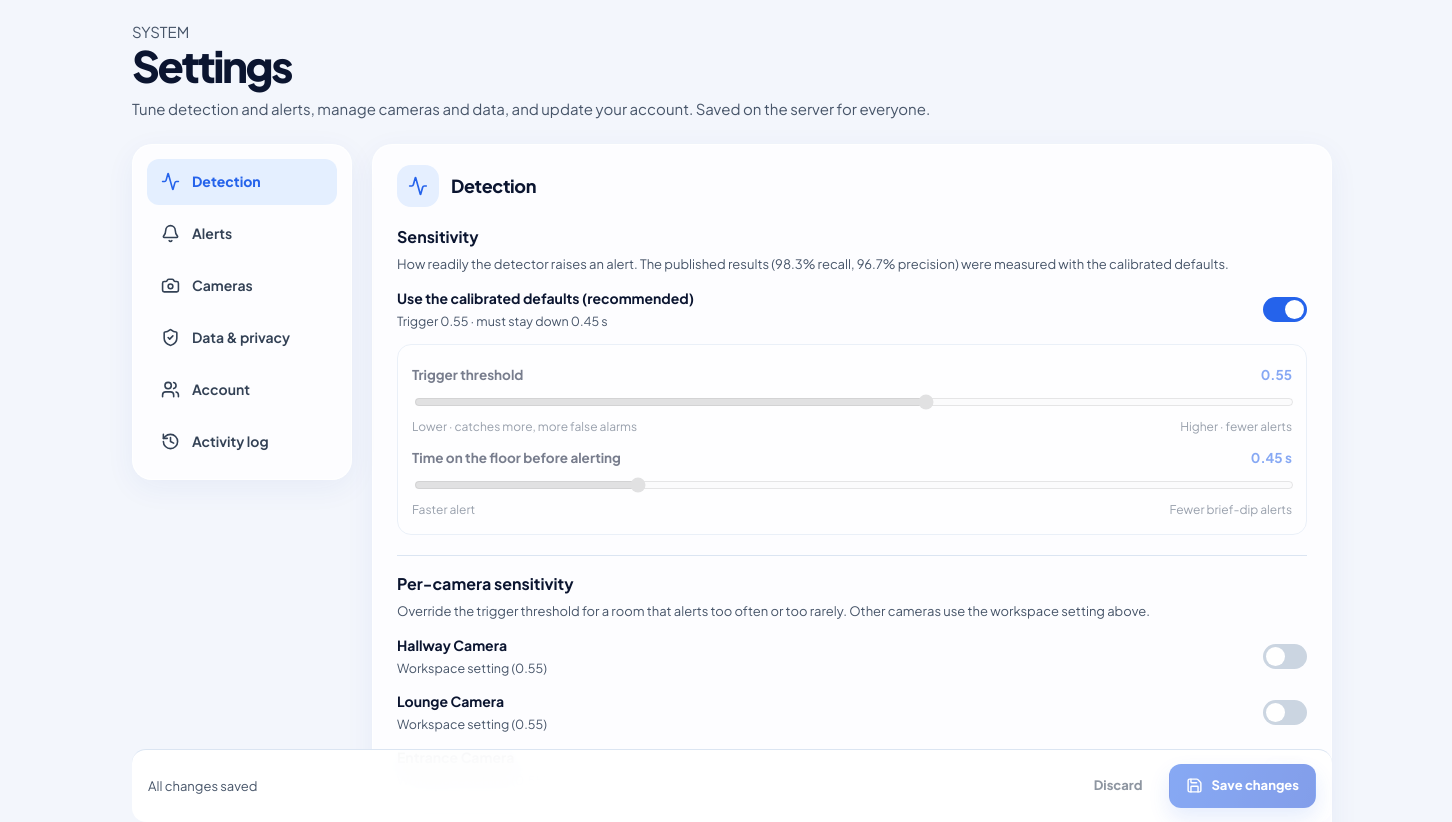
it: Settings › opens on Detection and switches tabs through the URL
expect the heading "Sensitivity" is shown: met, box [397,226,479,247]
Click the button "Account".
click(242, 390)  # box [147,367,337,413]
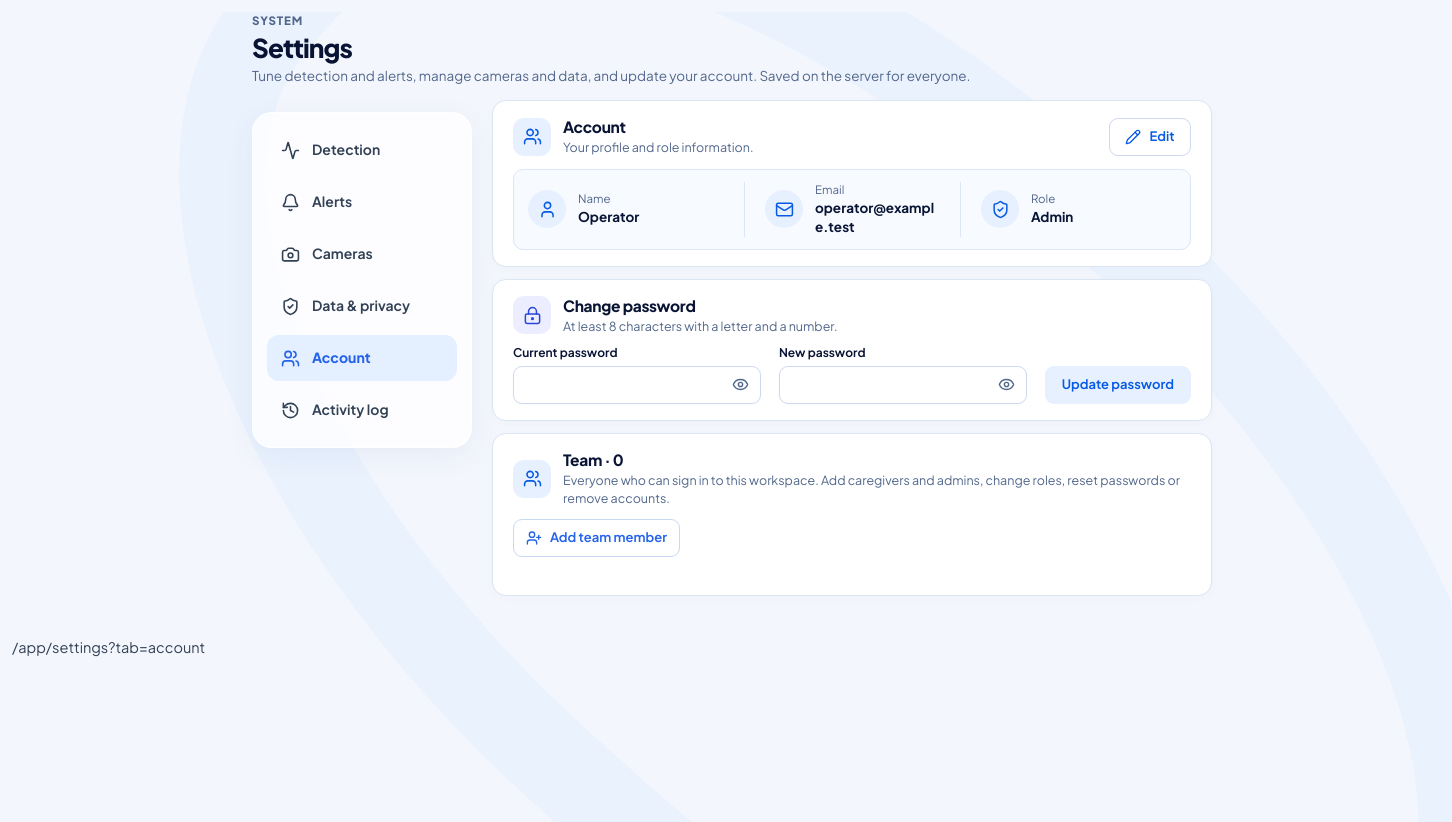
expect the text named "location" shows "tab=account": met, box [12,638,205,656]
expect the heading "Change password" is shown: met, box [563,296,696,315]
